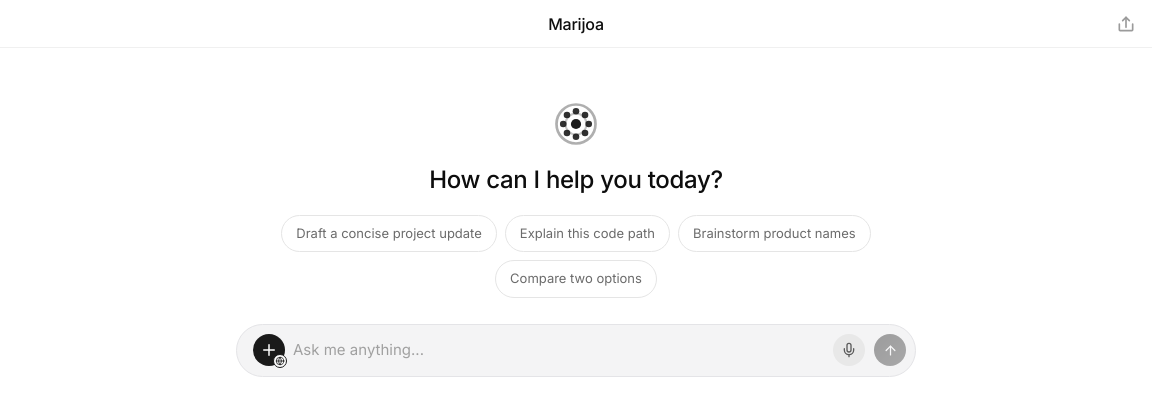
MainChatPanel — send routing › uses normal chat streaming when Deep Research mode is off
The width and height of the screenshot is (1152, 394).
Step 1. Type "hi" into the text box named "chat message" → [559, 350], box [293, 325, 825, 376]
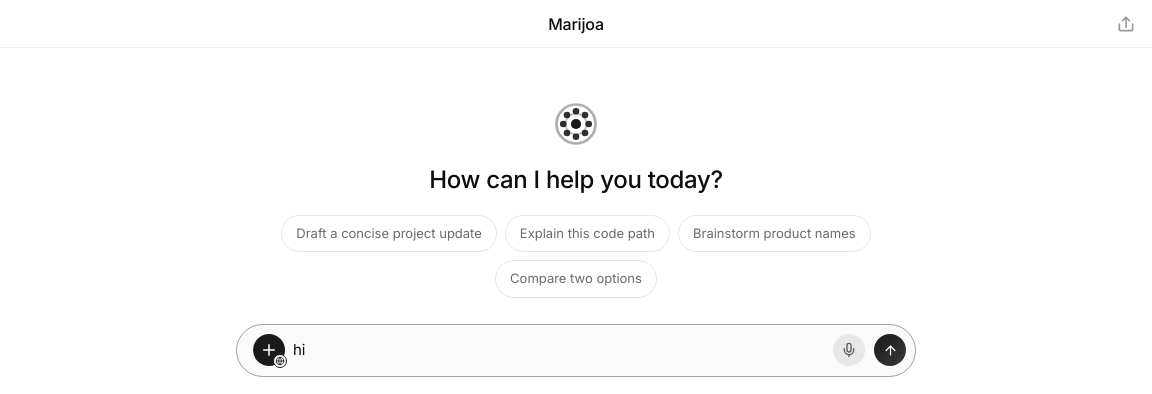
Step 2. Click the button named "send message" → [890, 350], box [874, 334, 906, 366]
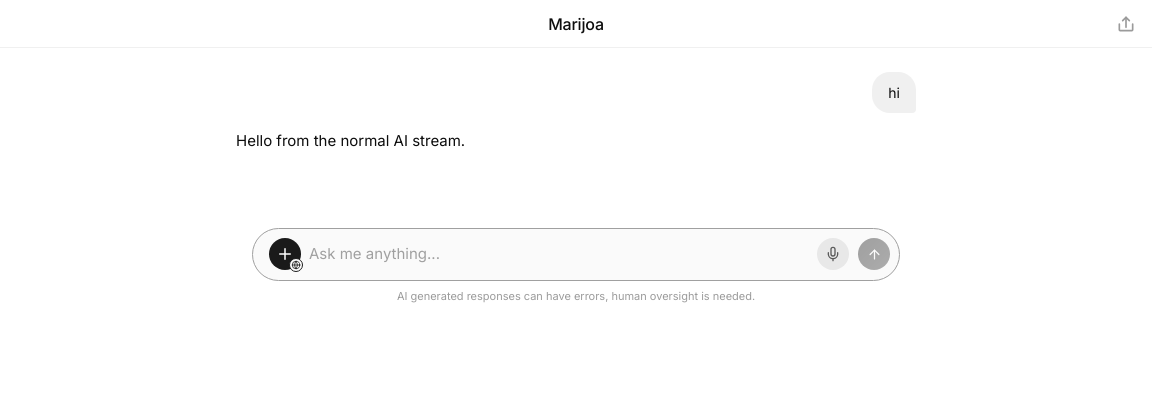
Check: the text "Hello from the normal AI stream." is shown, box [236, 131, 465, 150]
